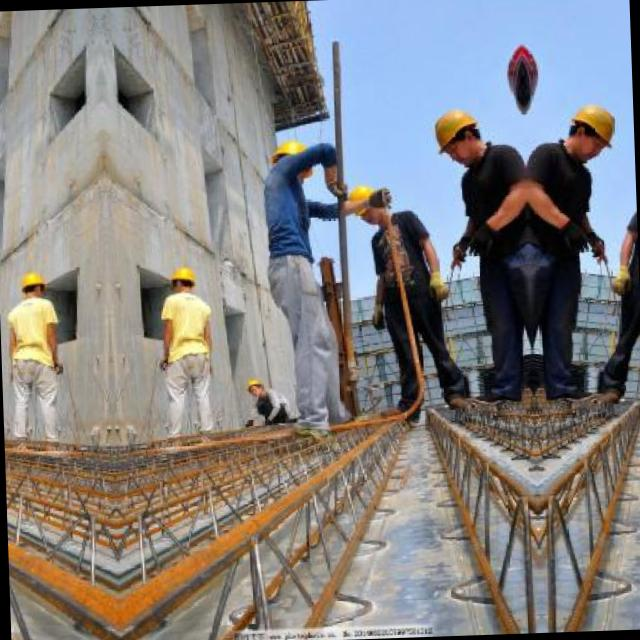helmet: (426, 104, 486, 160), (560, 100, 620, 156), (265, 137, 312, 182), (344, 182, 386, 224), (164, 266, 196, 298), (16, 271, 48, 303), (239, 376, 263, 395)
